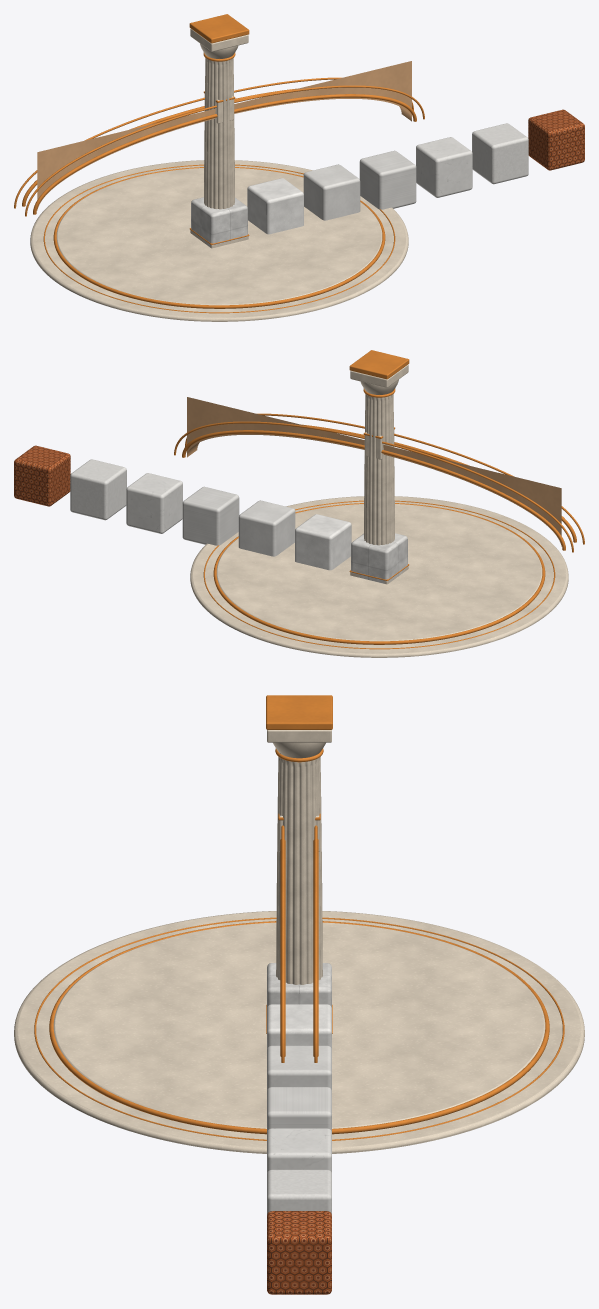
The model's file is LobbyMeshes.glb.
The picture shows the model from 3 angles, top to bottom: view 1: azimuth 30°, elevation 25°; view 2: azimuth 150°, elevation 25°; view 3: azimuth 270°, elevation 25°; orthographic projection. The views are drawn at different scales.
Visible parts, largest first — view 1: DaisStone, ArchNavy, ColumnStone, ArchGold, DaisGold, Swatch_PawMarble, Swatch_PawFabric, Swatch_PawCarpet, Swatch_PawMetal, Swatch_PawPlaster, Swatch_PawGrain, Swatch_PawStone (+1 smaller); view 2: DaisStone, ArchNavy, ColumnStone, ArchGold, DaisGold, Swatch_PawMarble, Swatch_PawFabric, Swatch_PawCarpet, Swatch_PawMetal, Swatch_PawPlaster, Swatch_PawGrain, Swatch_PawStone (+1 smaller); view 3: DaisStone, ColumnStone, DaisGold, Swatch_PawCarpet, ArchGold, Swatch_PawFabric, Swatch_PawMetal, Swatch_PawMarble, ColumnGold, Swatch_PawPlaster, Swatch_PawGrain, Swatch_PawStone.
Part boxes in pixels (x1,y1,x2,y2): DaisStone: [30, 160, 408, 321]; ArchNavy: [37, 61, 411, 210]; ColumnStone: [190, 28, 248, 248]; ArchGold: [14, 77, 424, 216]; DaisGold: [43, 164, 395, 313]; Swatch_PawMarble: [416, 137, 472, 197]; Swatch_PawFabric: [472, 123, 528, 184]; Swatch_PawCarpet: [528, 109, 584, 170]; Swatch_PawMetal: [359, 150, 416, 209]; Swatch_PawPlaster: [303, 164, 360, 220]; Swatch_PawGrain: [247, 178, 303, 234]; Swatch_PawStone: [191, 197, 247, 246]; DaisStone: [190, 496, 568, 657]; ArchNavy: [187, 397, 561, 546]; ColumnStone: [350, 364, 408, 584]; ArchGold: [174, 413, 584, 552]; DaisGold: [203, 500, 555, 649]; Swatch_PawMarble: [126, 473, 182, 533]; Swatch_PawFabric: [70, 459, 126, 520]; Swatch_PawCarpet: [14, 445, 70, 506]; Swatch_PawMetal: [182, 486, 239, 545]; Swatch_PawPlaster: [238, 500, 295, 556]; Swatch_PawGrain: [295, 514, 351, 570]; Swatch_PawStone: [351, 533, 407, 583]; DaisStone: [14, 911, 584, 1153]; ColumnStone: [267, 730, 331, 984]; DaisGold: [34, 917, 564, 1140]; Swatch_PawCarpet: [267, 1211, 331, 1294]; ArchGold: [278, 813, 320, 1062]; Swatch_PawFabric: [267, 1169, 331, 1214]; Swatch_PawMetal: [267, 1087, 331, 1131]; Swatch_PawMarble: [267, 1128, 331, 1173]; ColumnGold: [266, 695, 332, 1033]; Swatch_PawPlaster: [267, 1045, 331, 1090]; Swatch_PawGrain: [267, 1004, 331, 1048]; Swatch_PawStone: [267, 963, 331, 1007].
Size of the model in its own units: 59.35 by 23.3 by 35.
Materials: 11 (11 with a texture image).
